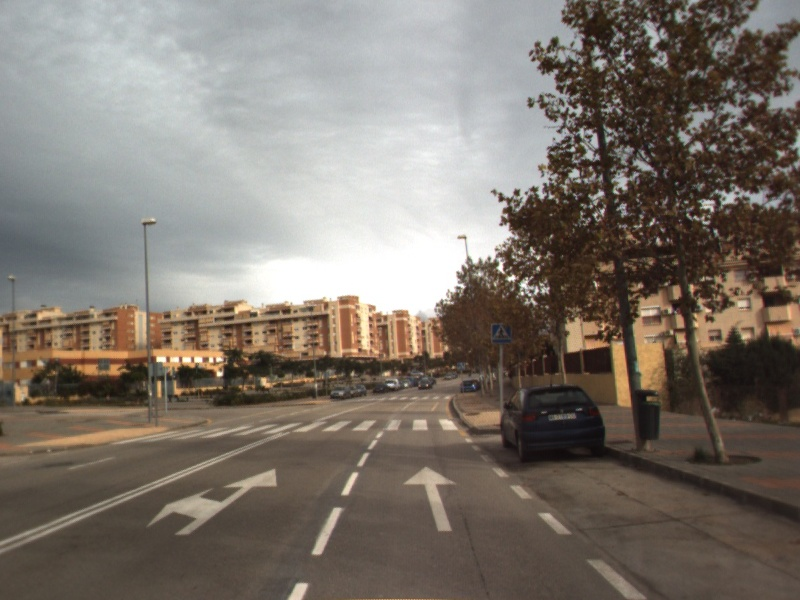STRAIGHT: (401, 464, 459, 533)
STRAIGHT_LEFT: (144, 467, 279, 537)
